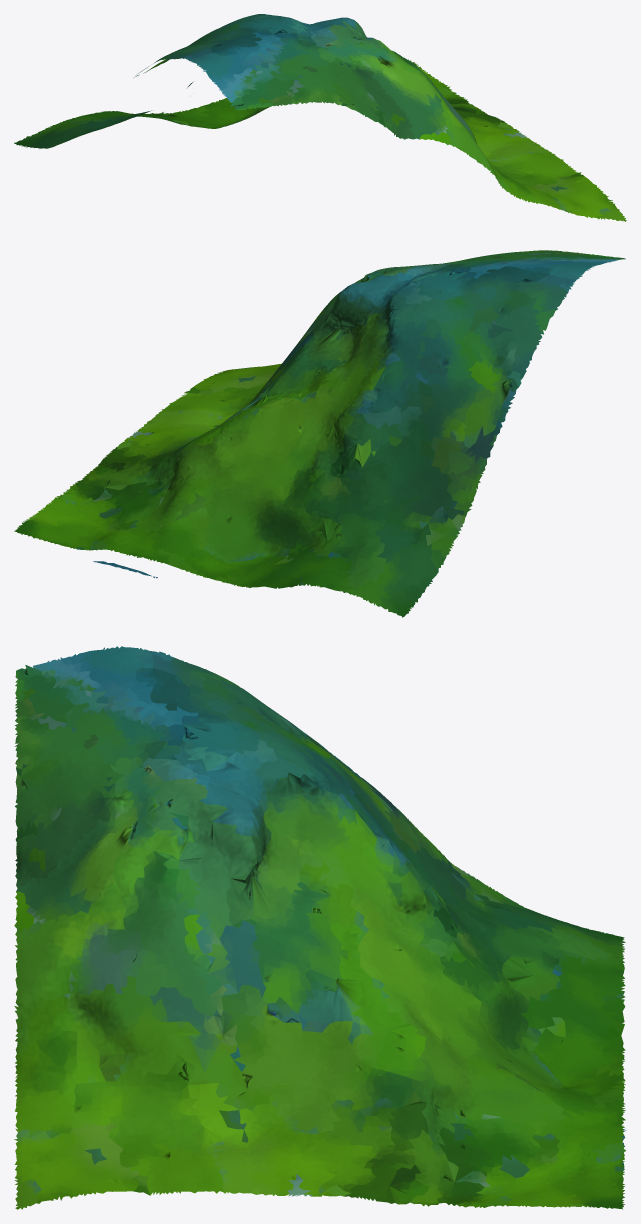
Rendered from chunk_2_1_LOD0.glb.
3 views of the same model, one above another, from view 1: azimuth 30°, elevation 25°; view 2: azimuth 150°, elevation 25°; view 3: azimuth 270°, elevation 25° (orthographic). The views are drawn at different scales.
Visible parts, largest first — view 1: chunk_2_1_LOD0; view 2: chunk_2_1_LOD0; view 3: chunk_2_1_LOD0.
Boxes of the visible parts, x1,y1,x2,y2 form: chunk_2_1_LOD0: (14, 14, 626, 221); chunk_2_1_LOD0: (14, 250, 625, 617); chunk_2_1_LOD0: (14, 646, 626, 1209).
Size of the model in its own units: 100 by 56.29 by 98.22.
1 material, 1 textured.
